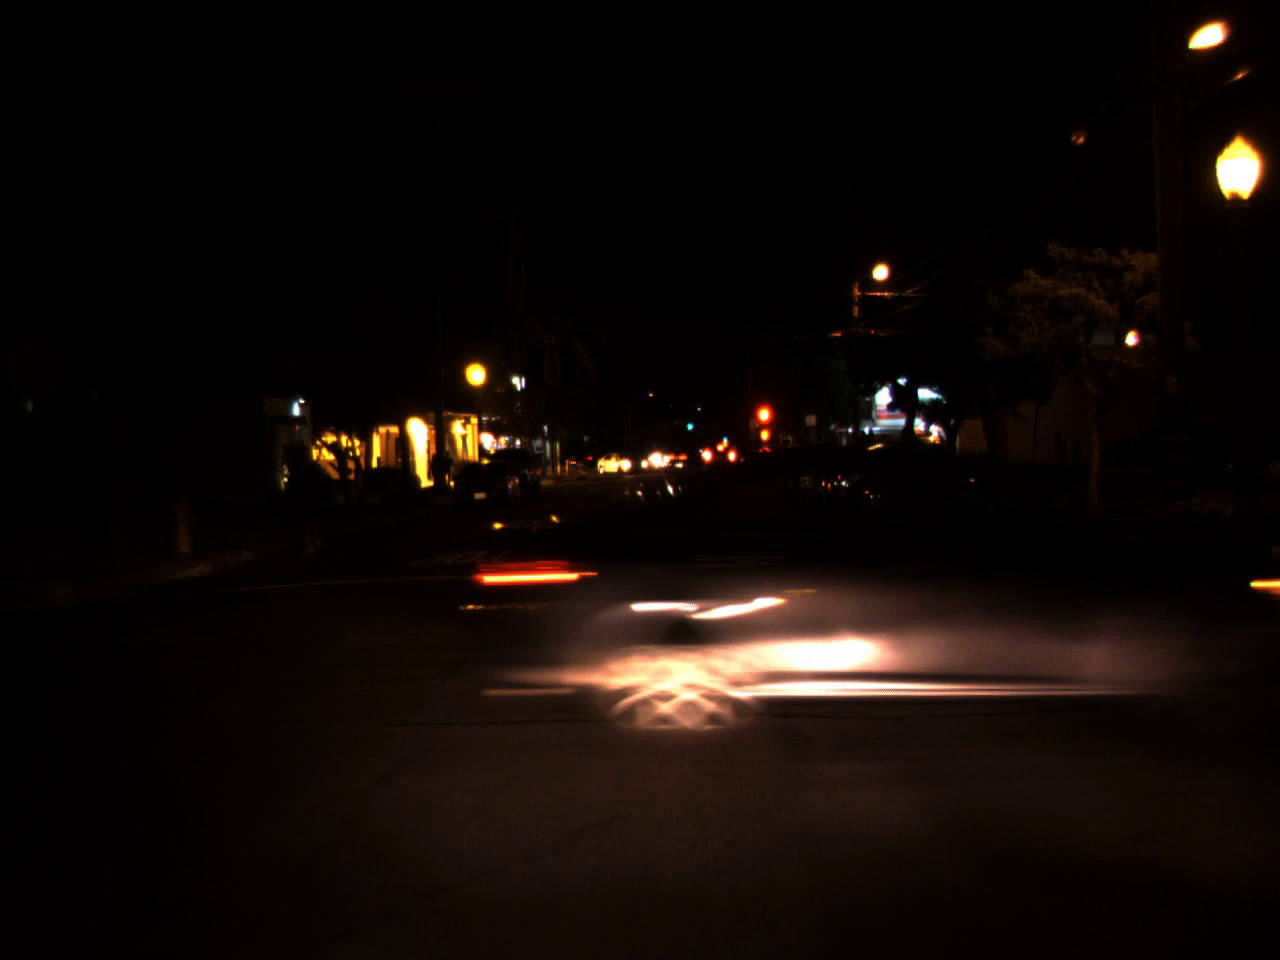go: (685, 415, 694, 433), (721, 431, 728, 443)
stop: (752, 401, 776, 449)
